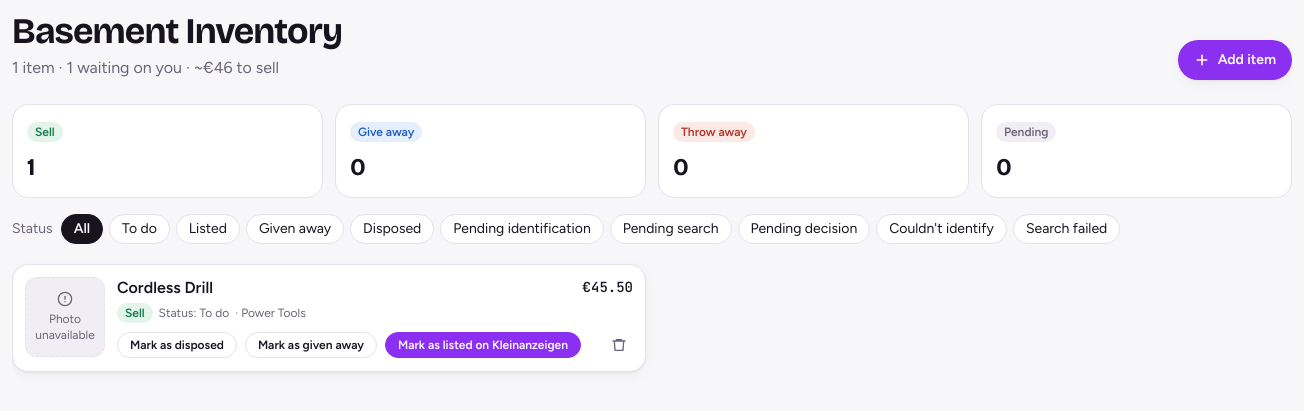
Test case: InventoryPage › keeps counts correct and drops the item from a filtered view after a status change
Expected: the link "Cordless Drill" is shown, [117,278,213,297]
Click the button "To do": (139, 229) [109,214,170,244]
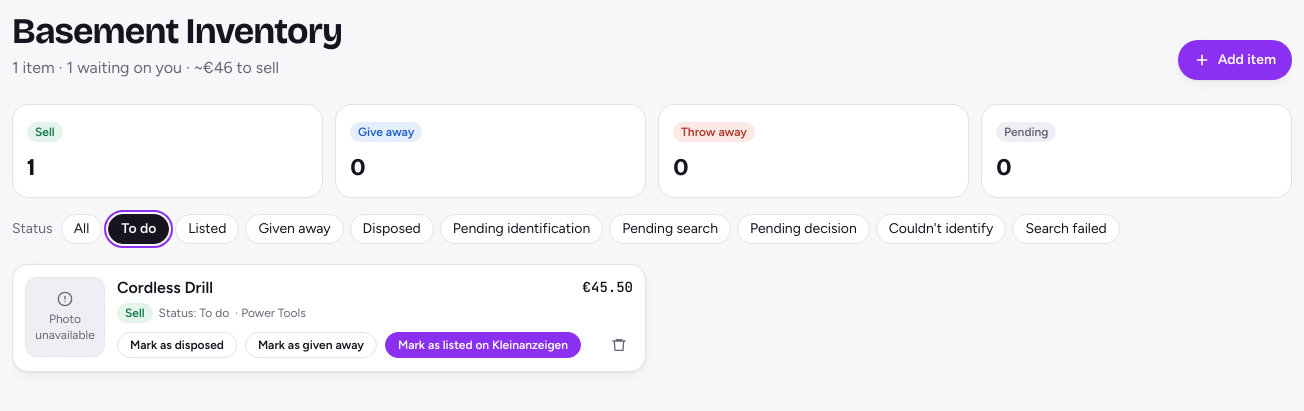
Click the button "Mark as listed on Kleinanzeigen": (483, 345) [385,332,581,358]
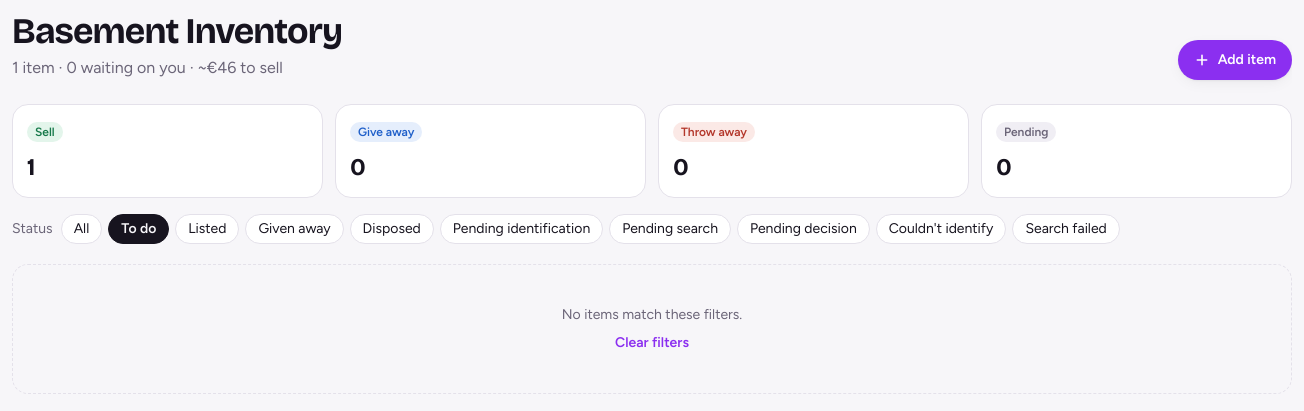
Expected: the button "Sell 1" is shown, [12,104,323,198]
Result: the link "Cordless Drill" is gone
Result: the text "No items match these filters." is shown at [562,306,742,323]
